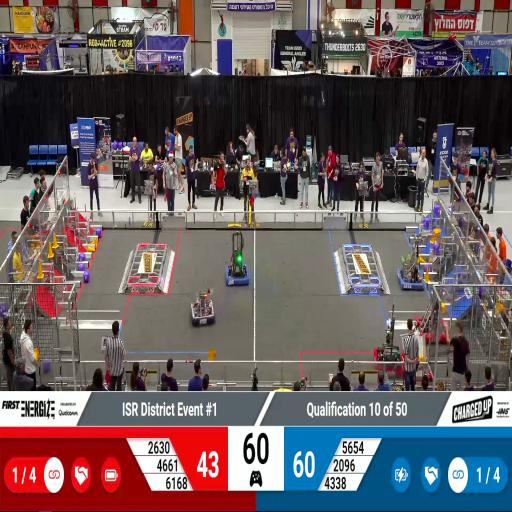robot: (414, 300, 450, 344), (399, 344, 435, 384), (373, 338, 405, 380), (226, 242, 250, 288), (189, 290, 217, 329), (398, 250, 424, 292)
